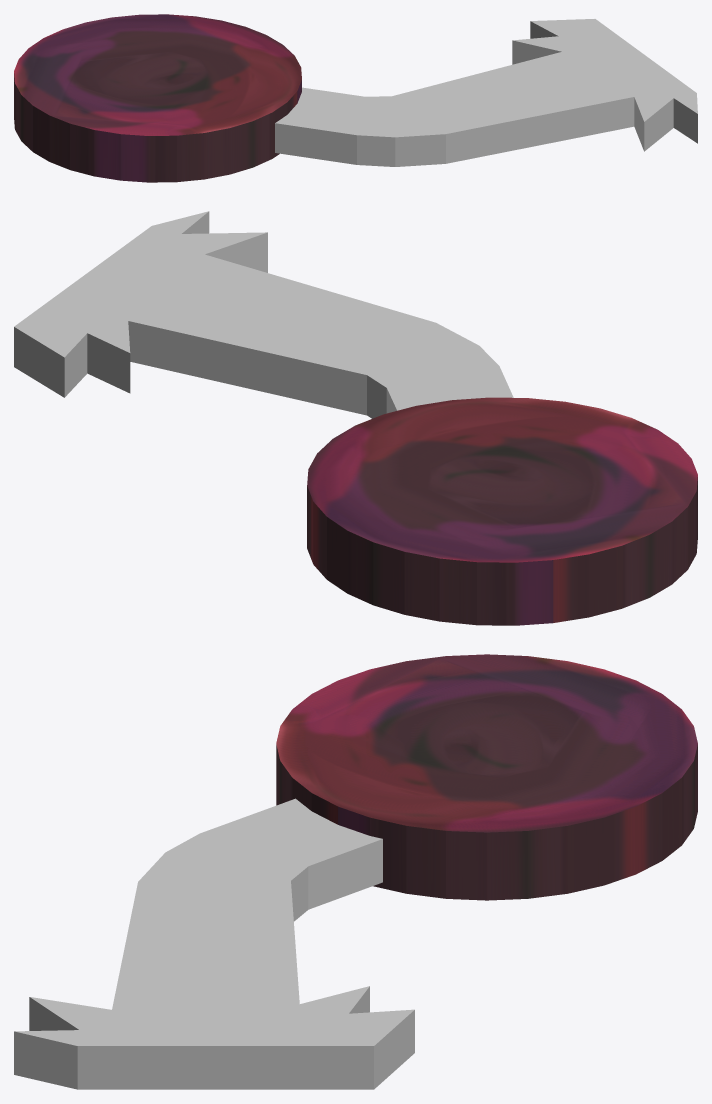
Rendered from JumpBack.fbx.
3 views of the same model, one above another, from view 1: azimuth 30°, elevation 25°; view 2: azimuth 150°, elevation 25°; view 3: azimuth 270°, elevation 25° (orthographic). The views are drawn at different scales.
Parts seen in each view (by area): view 1: Circle, Plane; view 2: Circle, Plane; view 3: Circle, Plane.
Part boxes in pixels (x1,y1,x2,y2): Circle: (14, 14, 301, 182); Plane: (275, 19, 697, 166); Circle: (307, 397, 697, 625); Plane: (14, 211, 513, 418); Circle: (276, 654, 697, 900); Plane: (14, 798, 414, 1089).
Size of the model in its own units: 114 by 9.67 by 88.2.
